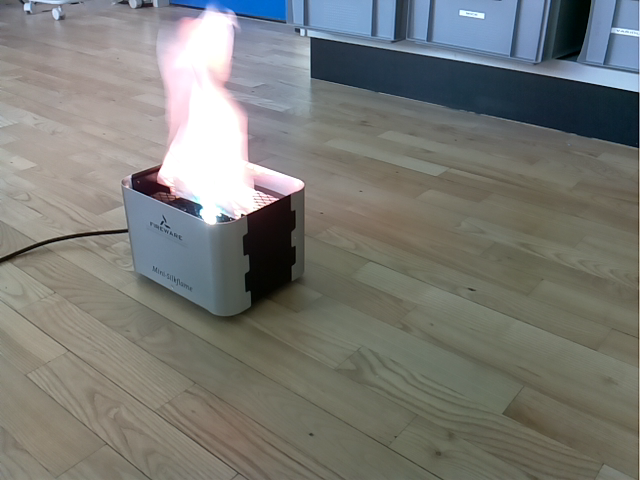fire: (157, 6, 254, 219)
